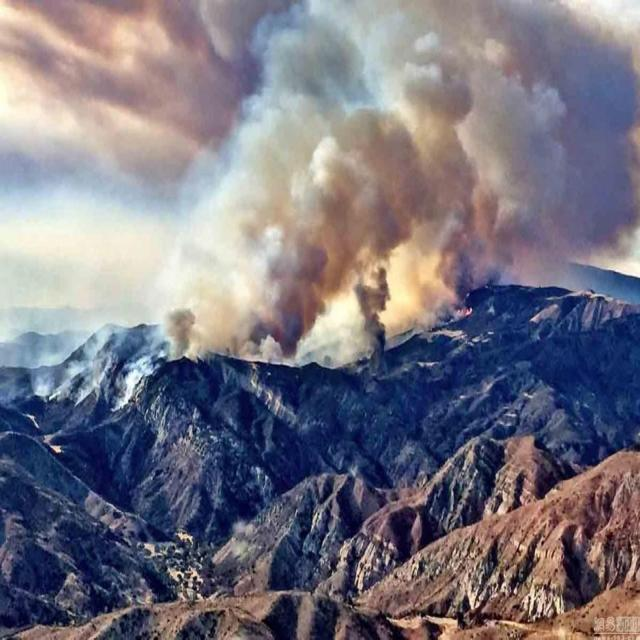smoke: (194, 36, 586, 330)
